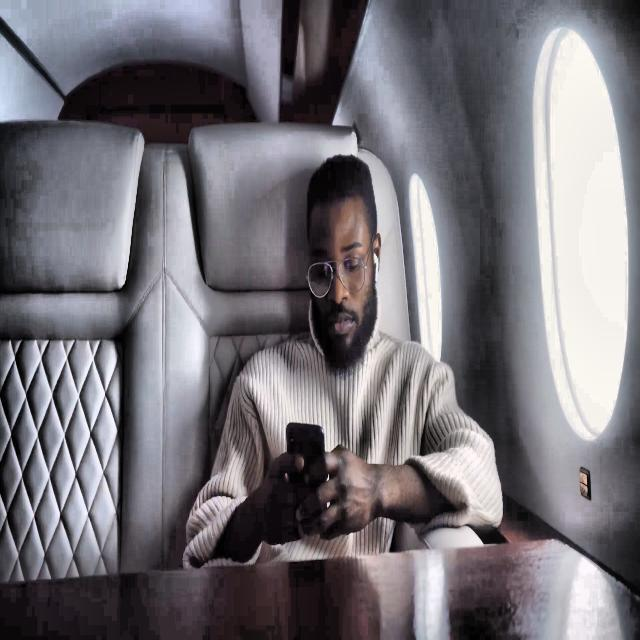Phone: (286, 421, 326, 489)
